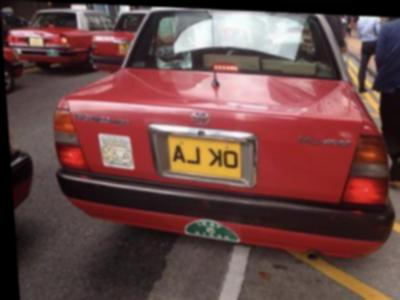License_Plate: (169, 138, 245, 175)
